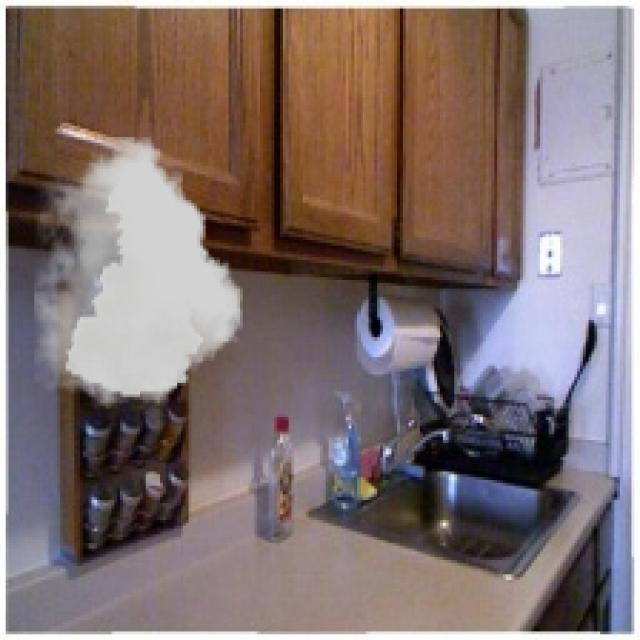Smoke: (34, 137, 243, 409)
